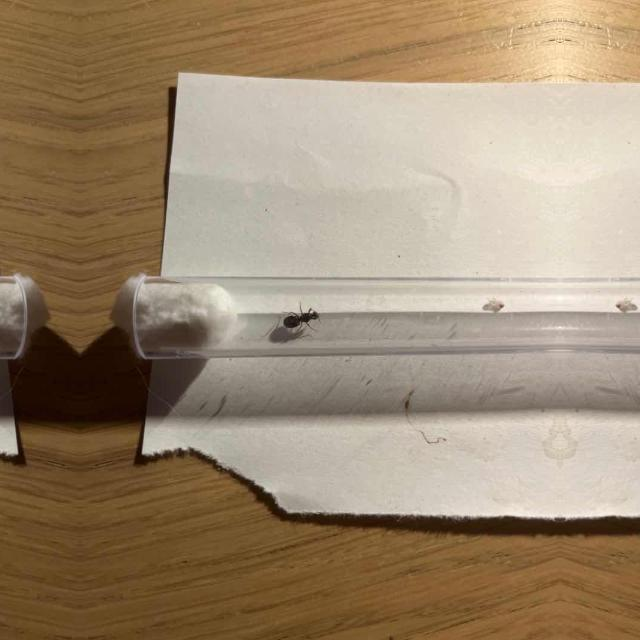Lasius: (280, 302, 316, 332)
